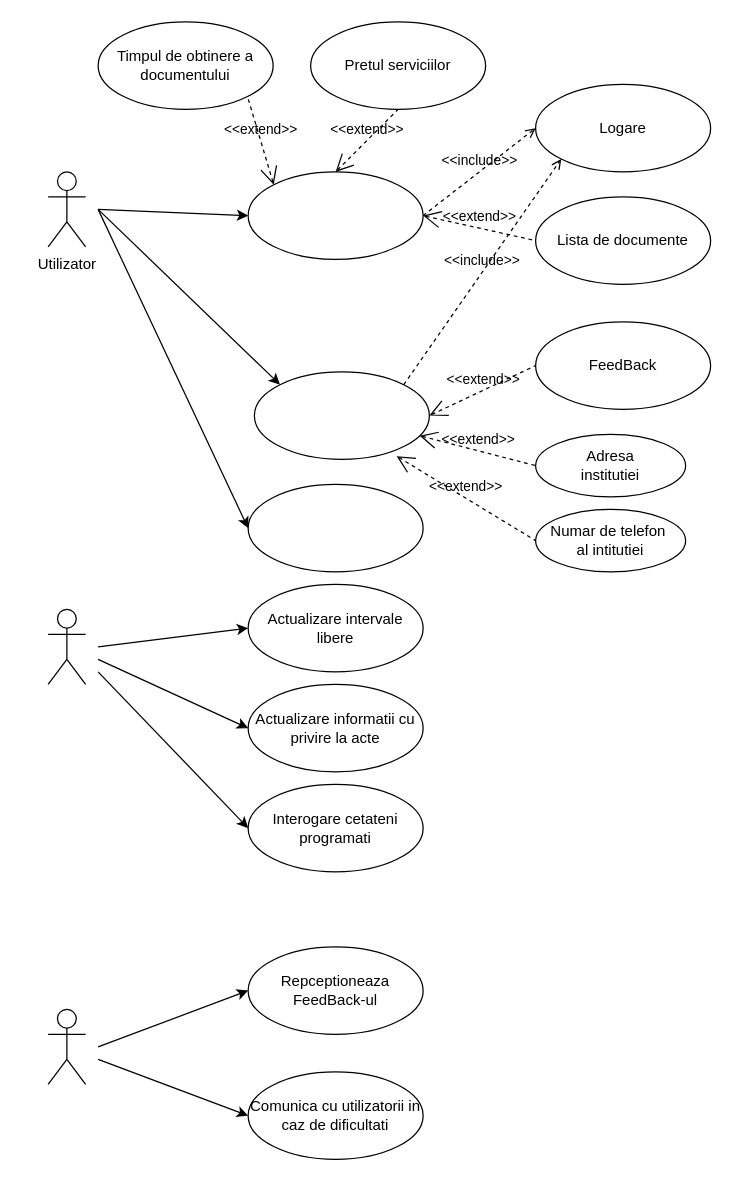
The diagram is 733 pixels wide and 1181 high, and some of its shapes have lost their labels. Each missing label, with the centre of its shape:
"Administratori" goes at (x=66, y=1046).
"Comunica cu administratorii pentru informatii" goes at (x=335, y=527).
"Interogarea informatiei" goes at (x=335, y=215).
"Organ de stat" goes at (x=66, y=646).
"Programare" goes at (x=341, y=415).
